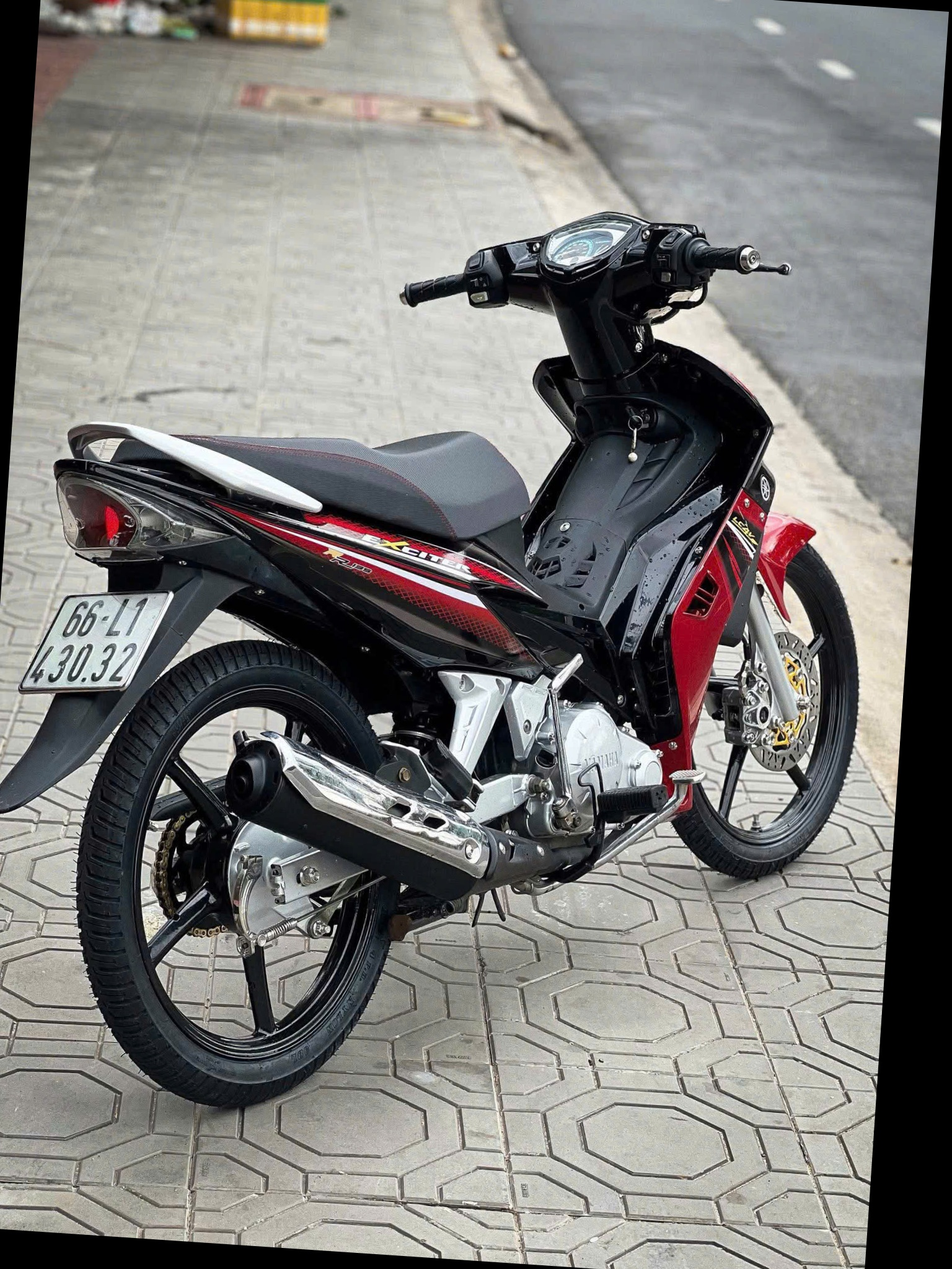Bien-so: (19, 585, 177, 698)
